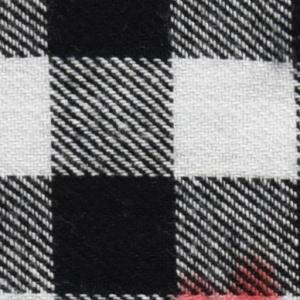Stain: (175, 256, 284, 300)
